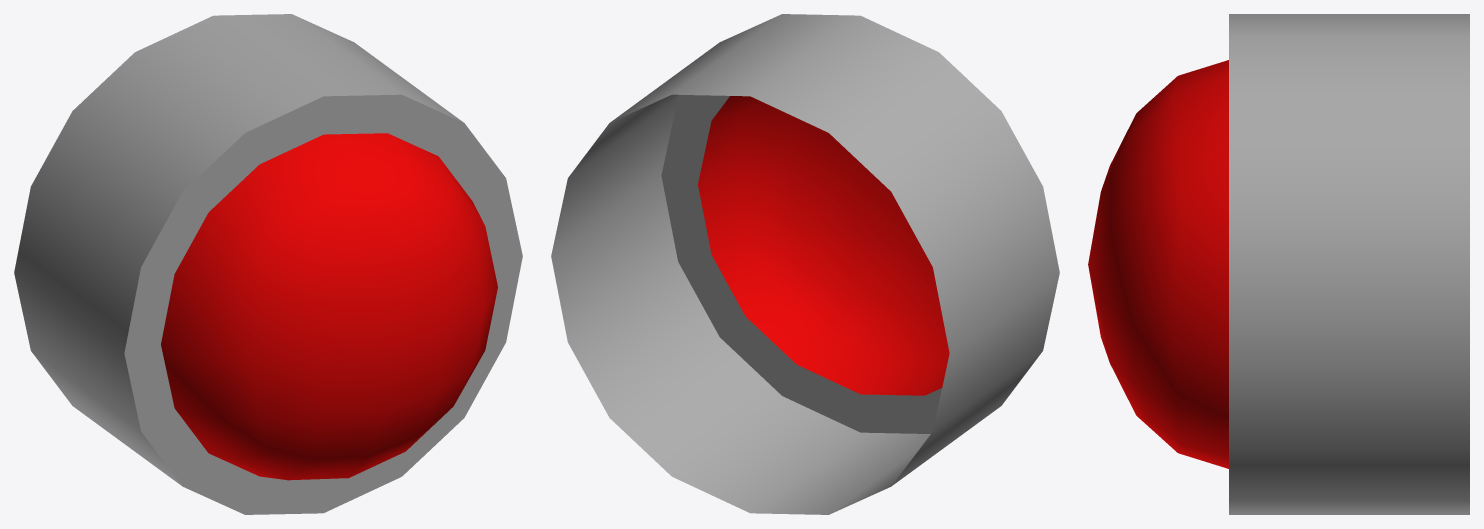
The model's file is SM_Boss_Lv2.fbx.
3 renders of one model, left to right at view 1: azimuth 30°, elevation 25°; view 2: azimuth 150°, elevation 25°; view 3: azimuth 270°, elevation 25°, orthographic. The views are drawn at different scales.
Parts seen in each view (by area): view 1: SM_Boss_Lv2_Body, SM_Boss_Lv2_Eye; view 2: SM_Boss_Lv2_Body, SM_Boss_Lv2_Eye; view 3: SM_Boss_Lv2_Body, SM_Boss_Lv2_Eye.
Part boxes in pixels (<box>): SM_Boss_Lv2_Body: <box>14,14,522,514</box>; SM_Boss_Lv2_Eye: <box>161,133,497,480</box>; SM_Boss_Lv2_Body: <box>551,14,1059,514</box>; SM_Boss_Lv2_Eye: <box>698,96,949,395</box>; SM_Boss_Lv2_Body: <box>1229,14,1469,514</box>; SM_Boss_Lv2_Eye: <box>1088,60,1228,468</box>.
Size of the model in its own units: 0.0568 by 0.0568 by 0.0432.
